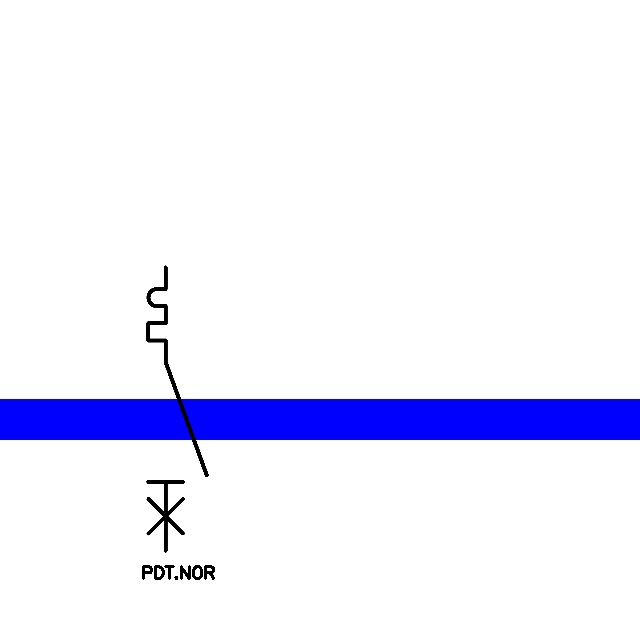interruptor_termomagnetico: (141, 260, 214, 558)
